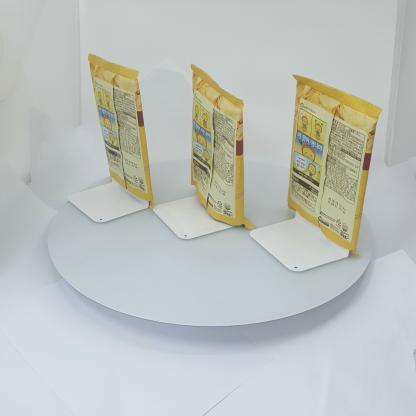Plastic Packaging: (152, 63, 252, 237), (286, 76, 382, 252), (80, 45, 160, 211)
